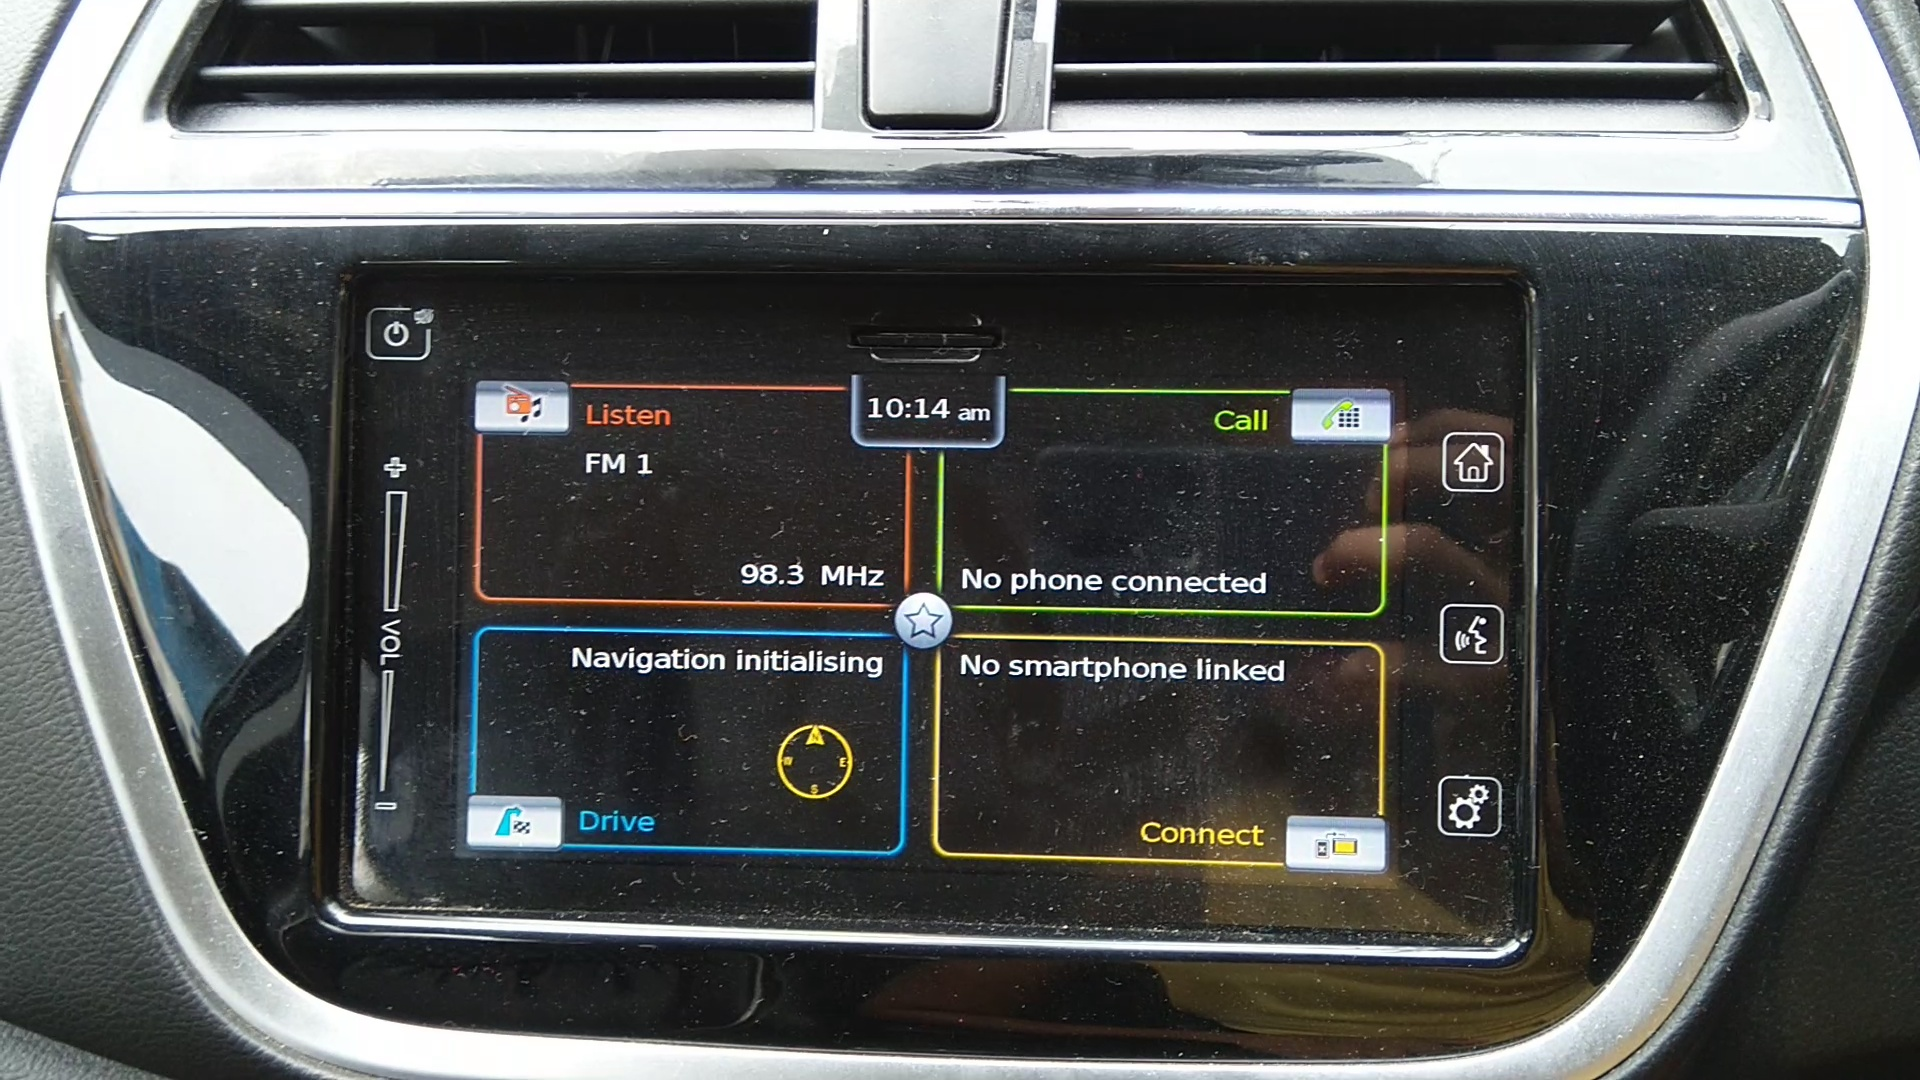touch_infotainment: (284, 243, 1556, 985)
